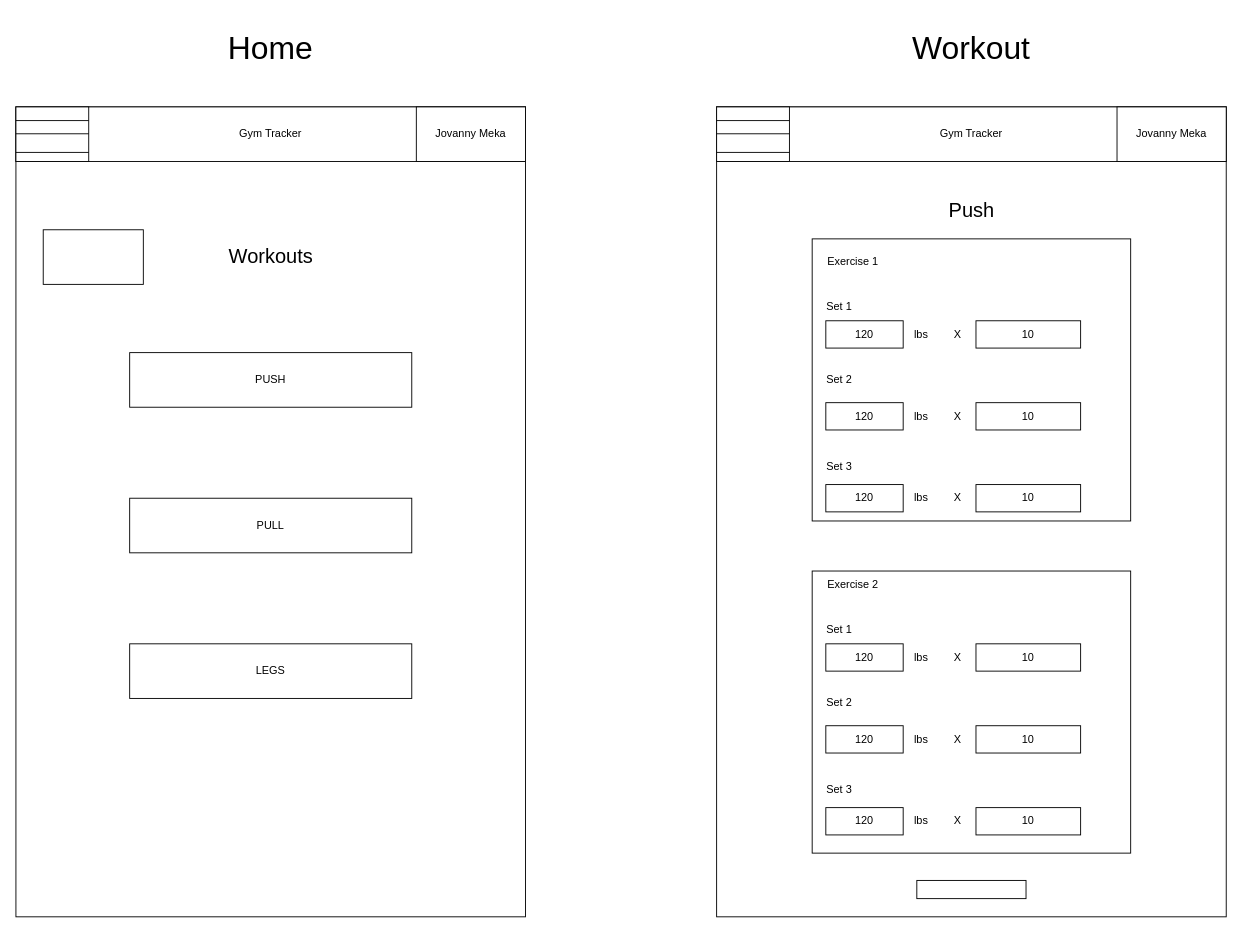
Image size: 1242x933. Some labels were removed from this diagram. Each missing label, with the centre of its shape:
"Complete the workout" belongs at (x=971, y=889).
"Edit" belongs at (x=92, y=256).
